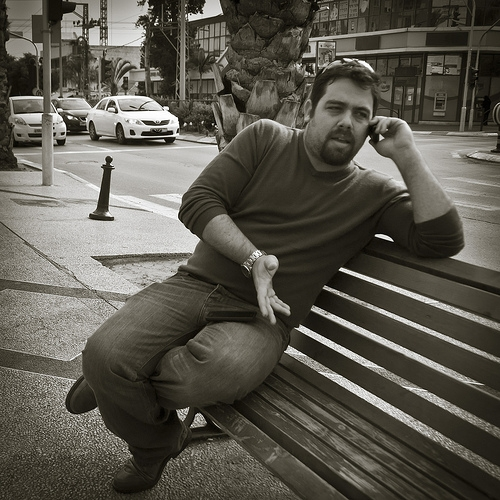phone: (365, 107, 401, 156)
talk: (316, 94, 412, 165)
